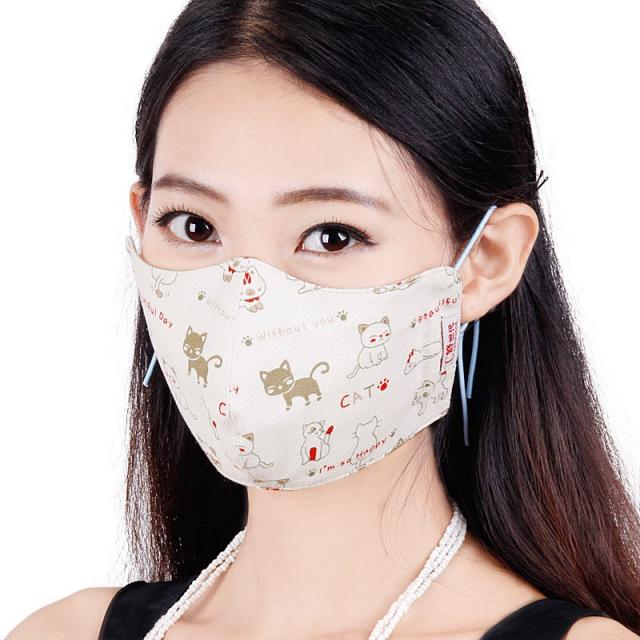mask: (136, 80, 450, 483)
